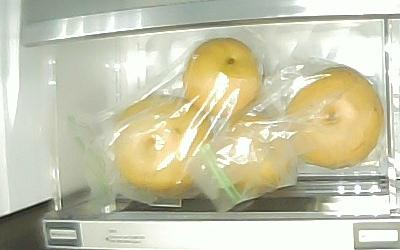pear_vinyl: (285, 66, 383, 168), (116, 95, 214, 192), (183, 37, 260, 118), (223, 115, 294, 193)
